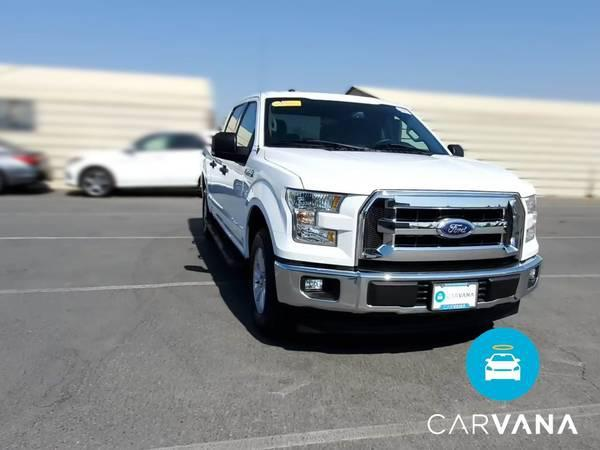Front_Fender: (240, 146, 305, 260)
Front_Right_Door: (219, 160, 248, 249)
Front_Right_Window: (226, 103, 257, 165)
Front_Windshield: (265, 101, 452, 156)
Grille: (353, 186, 523, 270)
Hood: (265, 146, 533, 193)
Left_Headlight: (520, 194, 538, 260)
Rear_Bumper: (274, 252, 542, 317)
Rear_Right_Door: (203, 154, 226, 223)
Rear_Right_Window: (286, 186, 369, 268), (208, 106, 242, 158)
Roof: (236, 91, 409, 146)
Wheel: (249, 232, 274, 321)
